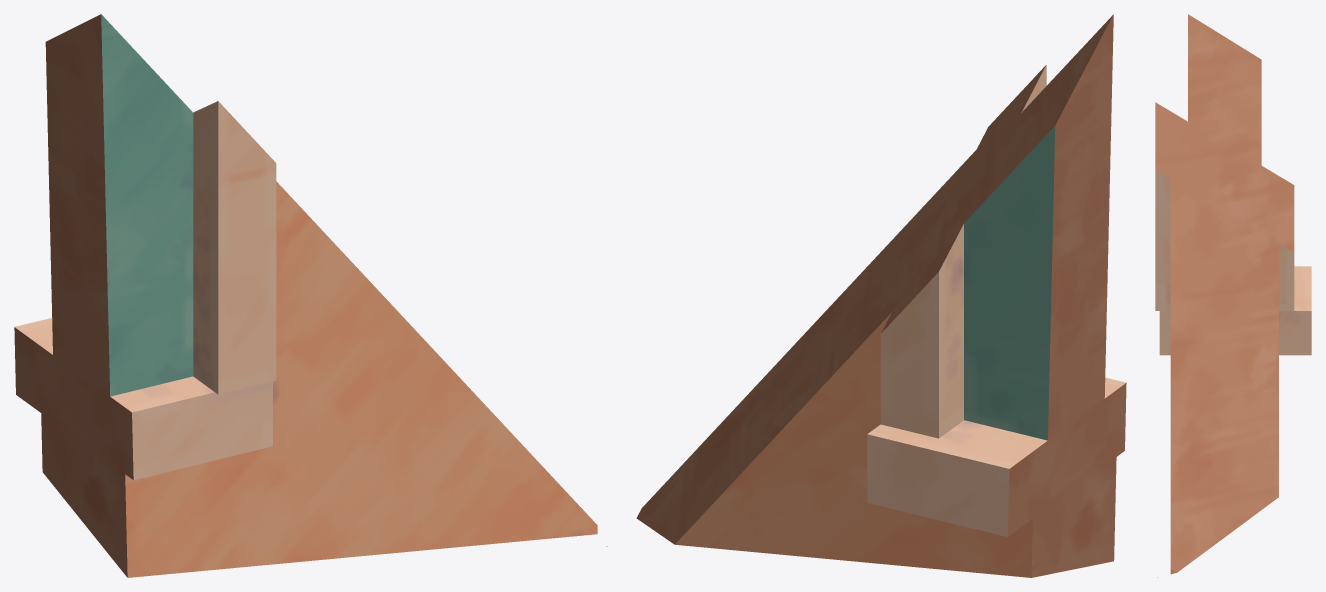
Rendered from wall2_upper_shutter_s05.fbx.
The picture shows the model from 3 angles, left to right: view 1: azimuth 30°, elevation 25°; view 2: azimuth 150°, elevation 25°; view 3: azimuth 270°, elevation 25°; orthographic projection. The views are drawn at different scales.
Visible parts, largest first — view 1: wall2_upper_shutter_s05; view 2: wall2_upper_shutter_s05; view 3: wall2_upper_shutter_s05.
Part boxes in pixels (x1,y1,x2,y2): wall2_upper_shutter_s05: (14, 14, 607, 577); wall2_upper_shutter_s05: (636, 14, 1126, 577); wall2_upper_shutter_s05: (1155, 14, 1311, 577).
Bounding box in the file's own units: 3.34 × 4.18 × 1.44.
